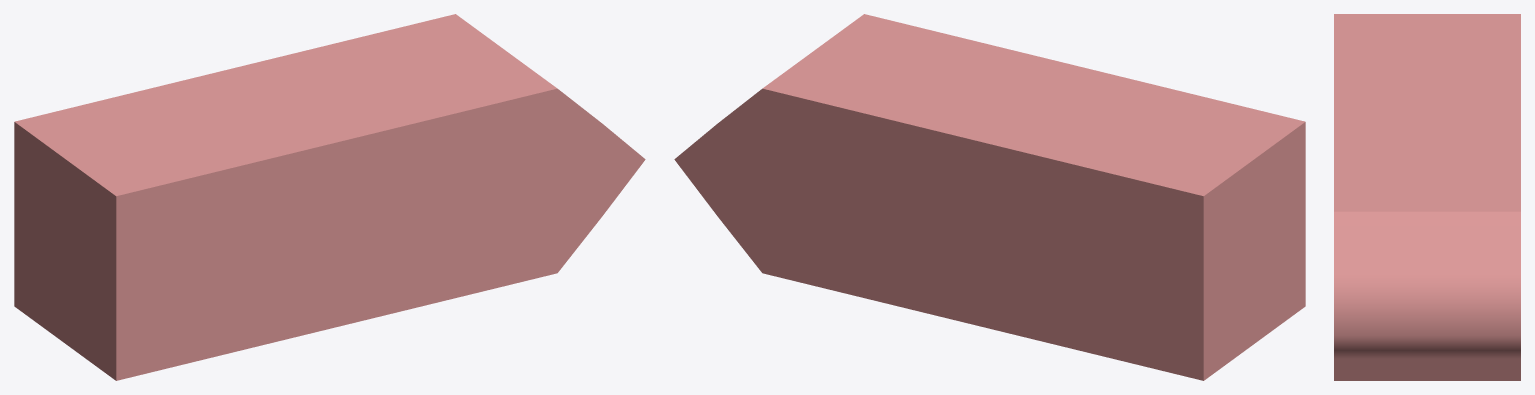
3 views of the same model, side by side, from view 1: azimuth 30°, elevation 25°; view 2: azimuth 150°, elevation 25°; view 3: azimuth 270°, elevation 25° (orthographic). The views are drawn at different scales.
Visible parts, largest first — view 1: pCube1; view 2: pCube1; view 3: pCube1.
Boxes of the visible parts, x1,y1,x2,y2 form: pCube1: (14,14,645,380); pCube1: (674,14,1305,380); pCube1: (1334,14,1520,380).
Bounding box in the file's own units: 3 × 1 × 1.
